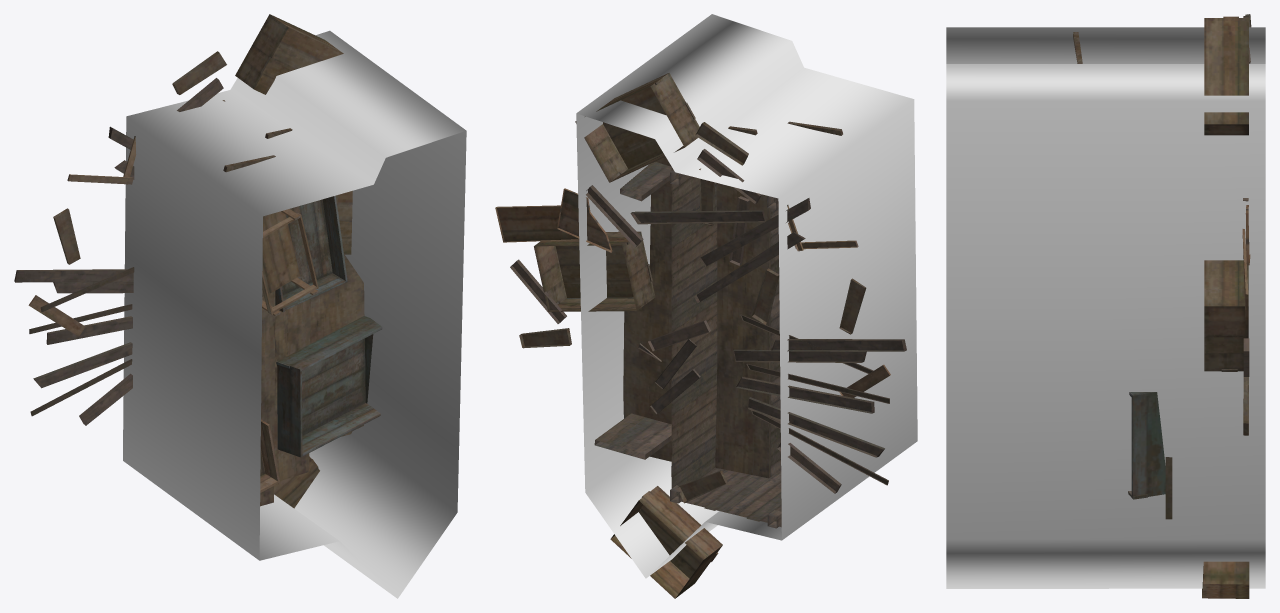
Rendered from hd_env052_TradeShelves_03.glb.
3 renders of one model, left to right at view 1: azimuth 30°, elevation 25°; view 2: azimuth 150°, elevation 25°; view 3: azimuth 270°, elevation 25°, orthographic. The views are drawn at different scales.
Parts seen in each view (by area): view 1: set_0_group_1, set_0_group_2, set_0_group_0; view 2: set_0_group_1, set_0_group_2, set_0_group_0; view 3: set_0_group_1, set_0_group_2, set_0_group_0.
Part boxes in pixels (bbox=[...]): set_0_group_1: bbox=[123, 30, 466, 598]; set_0_group_2: bbox=[223, 14, 382, 508]; set_0_group_0: bbox=[14, 51, 226, 425]; set_0_group_1: bbox=[576, 14, 917, 578]; set_0_group_2: bbox=[534, 73, 842, 598]; set_0_group_0: bbox=[495, 122, 906, 503]; set_0_group_1: bbox=[946, 27, 1265, 588]; set_0_group_2: bbox=[1073, 16, 1249, 598]; set_0_group_0: bbox=[1242, 14, 1251, 435].
Size of the model in its own units: 3.7 by 4.37 by 2.12.
Materials: 3 (2 with a texture image).
